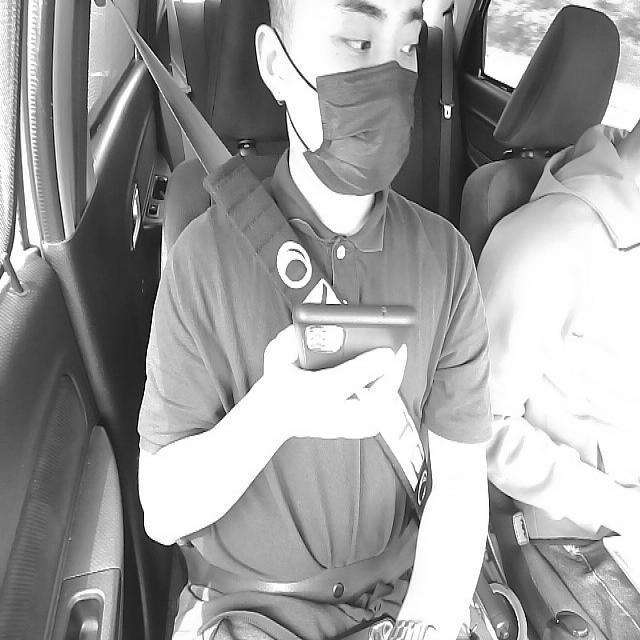phone: (294, 303, 416, 385)
